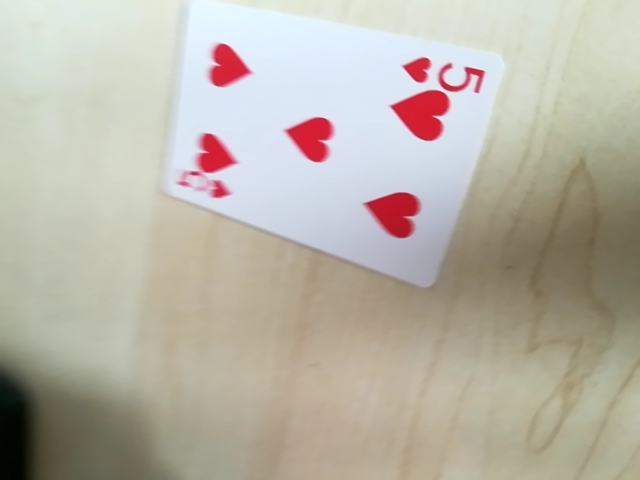hx 5: (398, 52, 488, 92), (173, 168, 238, 202)
